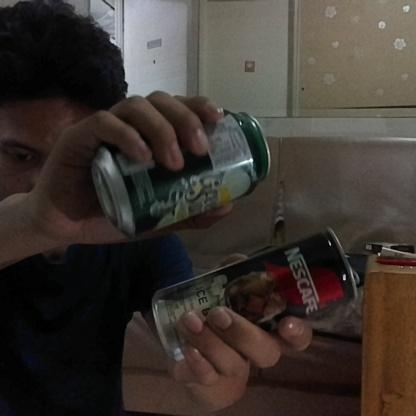alumunium_can: (149, 228, 361, 364), (89, 106, 271, 238)
